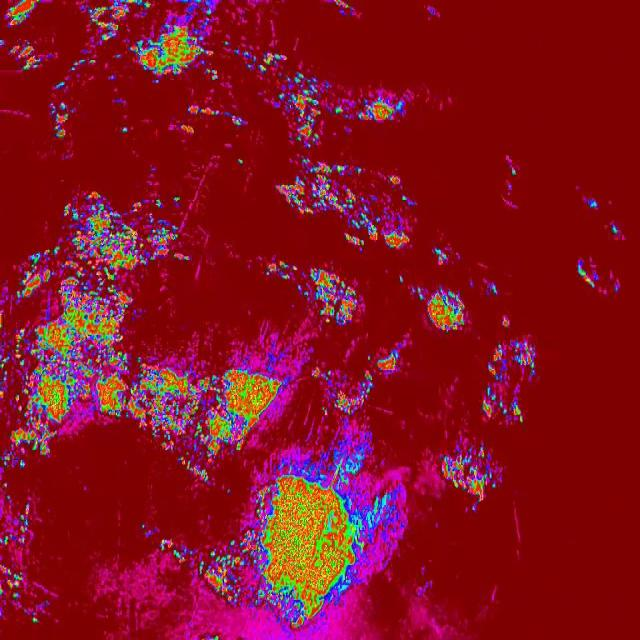fire: (11, 190, 138, 458), (234, 432, 398, 628), (275, 157, 414, 254), (138, 356, 236, 455), (128, 9, 220, 80), (295, 266, 359, 326), (438, 441, 497, 503), (275, 74, 323, 148), (313, 366, 375, 420), (235, 367, 282, 431), (138, 217, 192, 266), (198, 538, 232, 604), (87, 0, 128, 42), (428, 288, 466, 332), (356, 95, 406, 125), (235, 48, 288, 72), (8, 41, 42, 70), (159, 536, 194, 562), (178, 455, 209, 484), (0, 563, 23, 602), (481, 386, 508, 419), (5, 0, 39, 26), (488, 338, 508, 380), (260, 257, 298, 279), (48, 100, 70, 138), (510, 340, 536, 371), (17, 505, 34, 550), (374, 346, 401, 374), (575, 259, 595, 289), (0, 346, 11, 400), (187, 103, 220, 119), (68, 56, 96, 72), (510, 398, 526, 423), (332, 0, 352, 16), (434, 244, 448, 266), (228, 112, 245, 129), (180, 0, 216, 8), (0, 528, 14, 548), (178, 121, 196, 135), (332, 106, 347, 122), (128, 0, 150, 10), (0, 450, 12, 468), (29, 612, 40, 626), (586, 199, 600, 210), (508, 166, 520, 178), (500, 314, 510, 328), (488, 284, 498, 298), (154, 198, 164, 212), (416, 285, 424, 301), (172, 194, 184, 204), (54, 80, 66, 90), (610, 222, 617, 236), (613, 284, 622, 294), (235, 158, 244, 168), (18, 460, 26, 470), (2, 480, 10, 490), (152, 78, 162, 86), (120, 125, 128, 135), (468, 506, 479, 513), (0, 38, 5, 52), (5, 494, 12, 504), (410, 286, 416, 296), (115, 51, 121, 61), (226, 487, 232, 497), (140, 523, 146, 531), (397, 276, 403, 284), (211, 635, 220, 640), (366, 355, 372, 361), (224, 39, 228, 47)
